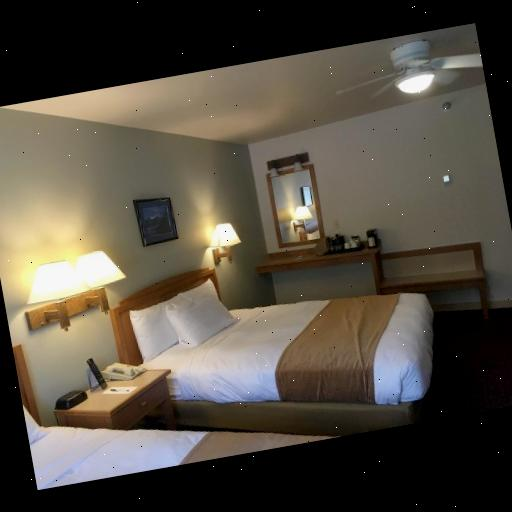clean mirror: (262, 163, 326, 250)
clean_bed: (113, 267, 430, 434)
lamp: (30, 246, 128, 330), (205, 214, 248, 275)
organised_pillow: (118, 276, 242, 360)
